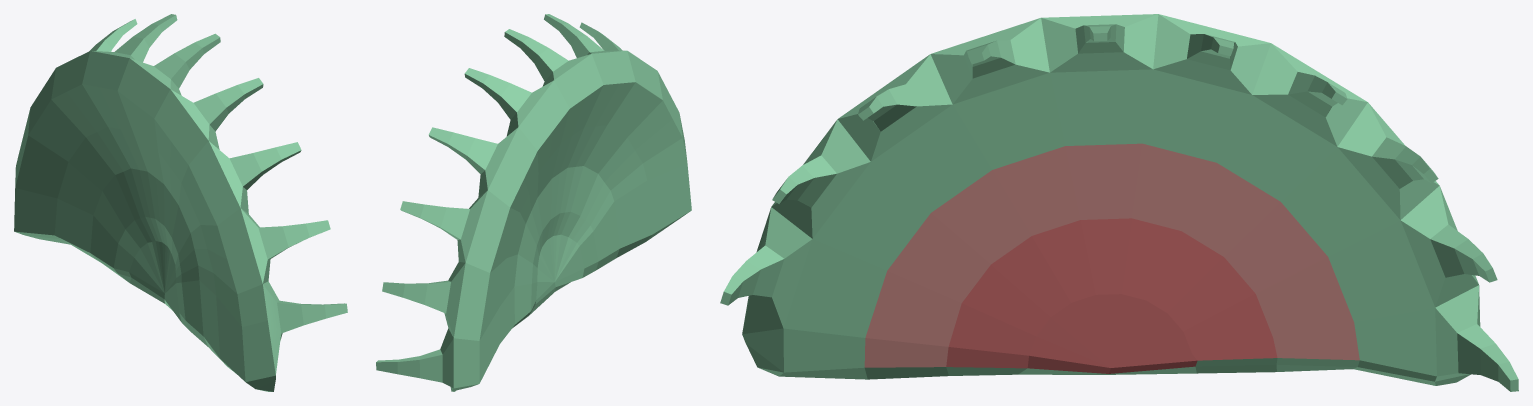
Rendered from stm_env_VFT_Mouthpiece-002.fbx.
3 renders of one model, left to right at view 1: azimuth 30°, elevation 25°; view 2: azimuth 150°, elevation 25°; view 3: azimuth 270°, elevation 25°, orthographic. The views are drawn at different scales.
Parts seen in each view (by area): view 1: stm_env_VFT_Mouthpiece_002; view 2: stm_env_VFT_Mouthpiece_002; view 3: stm_env_VFT_Mouthpiece_002.
Boxes of the visible parts, x1=… form: stm_env_VFT_Mouthpiece_002: x1=14, y1=14, x2=347, y2=391; stm_env_VFT_Mouthpiece_002: x1=376, y1=14, x2=691, y2=391; stm_env_VFT_Mouthpiece_002: x1=720, y1=14, x2=1518, y2=391.
Bounding box in the file's own units: 69.24 × 200 × 363.
